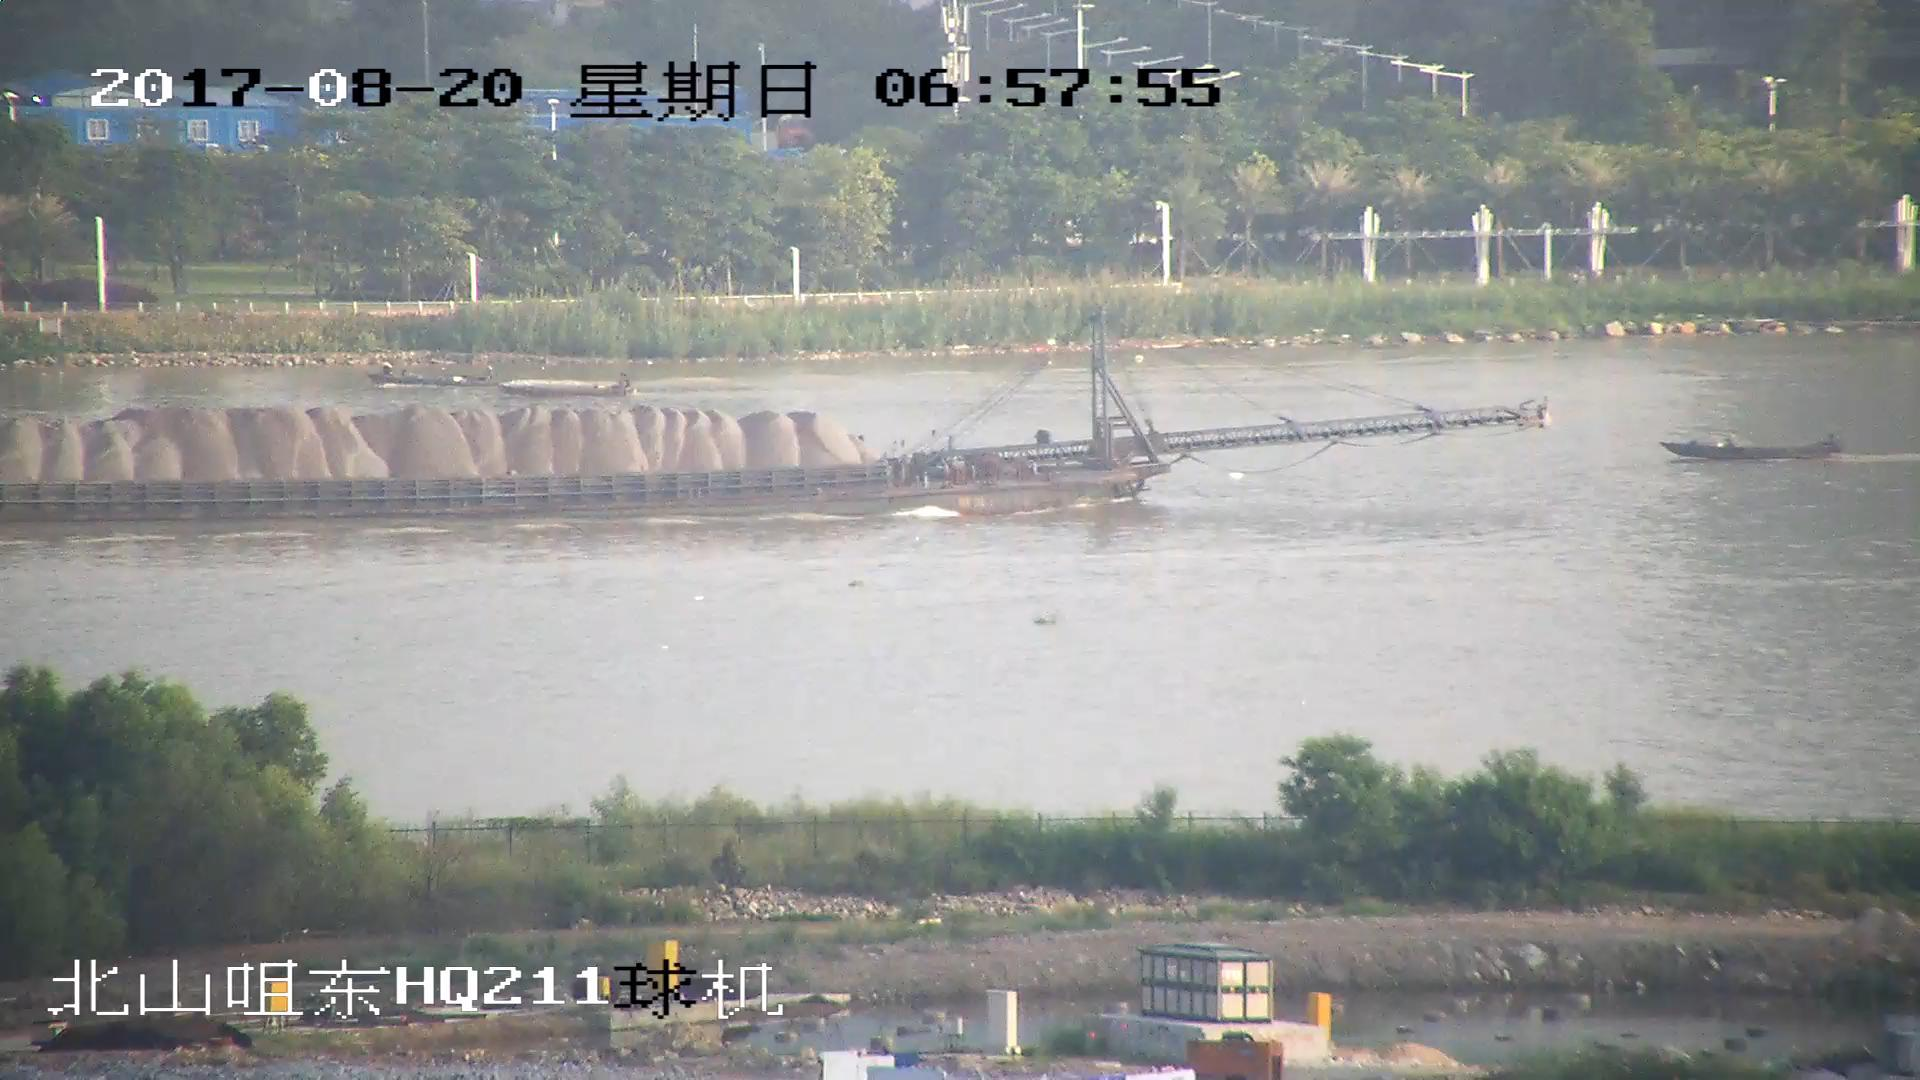Ship: (3, 307, 1557, 526), (1663, 429, 1847, 463), (502, 371, 642, 400), (371, 361, 500, 390)
